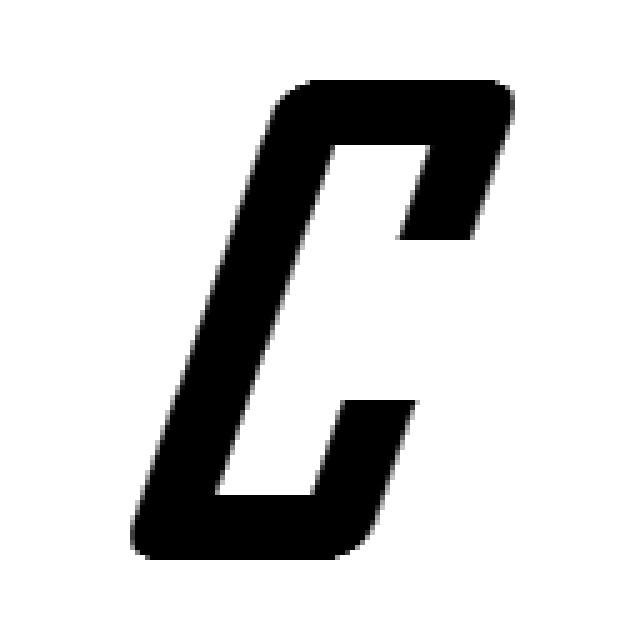C: (130, 80, 515, 565)
